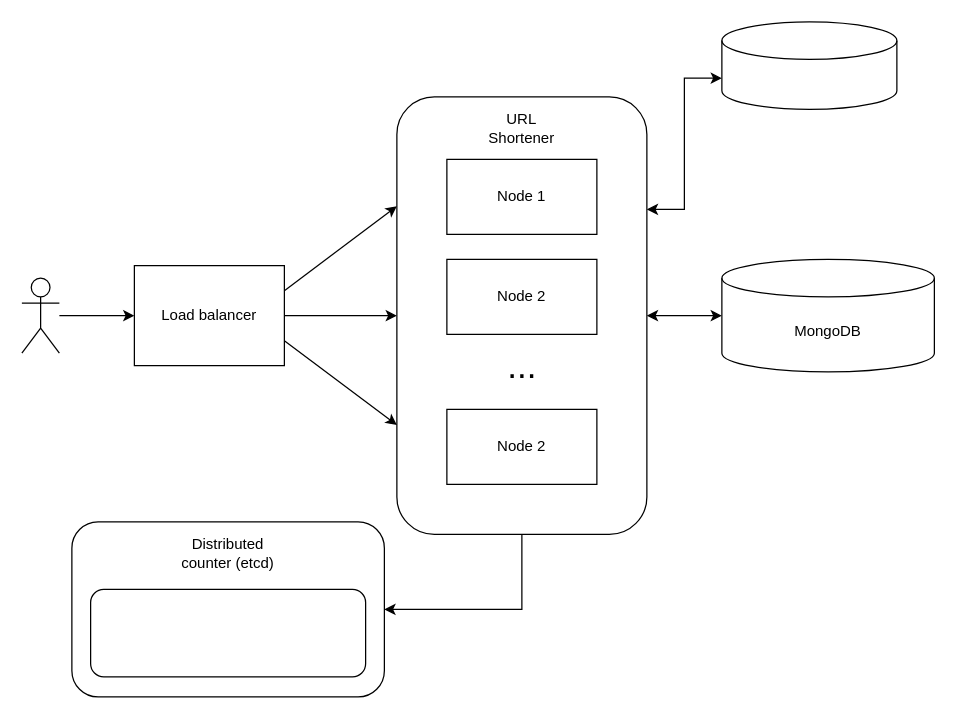
Image size: 956x719. Some labels were removed from this diagram. The centre of each missing label's shape, as x and y in pixels:
"1 ... 100K - Node 1 100001 ... 200K - Node 2 ....." belongs at [227,632].
"Cache (Redis)" belongs at [809,65].
"User" belongs at [40,315].
